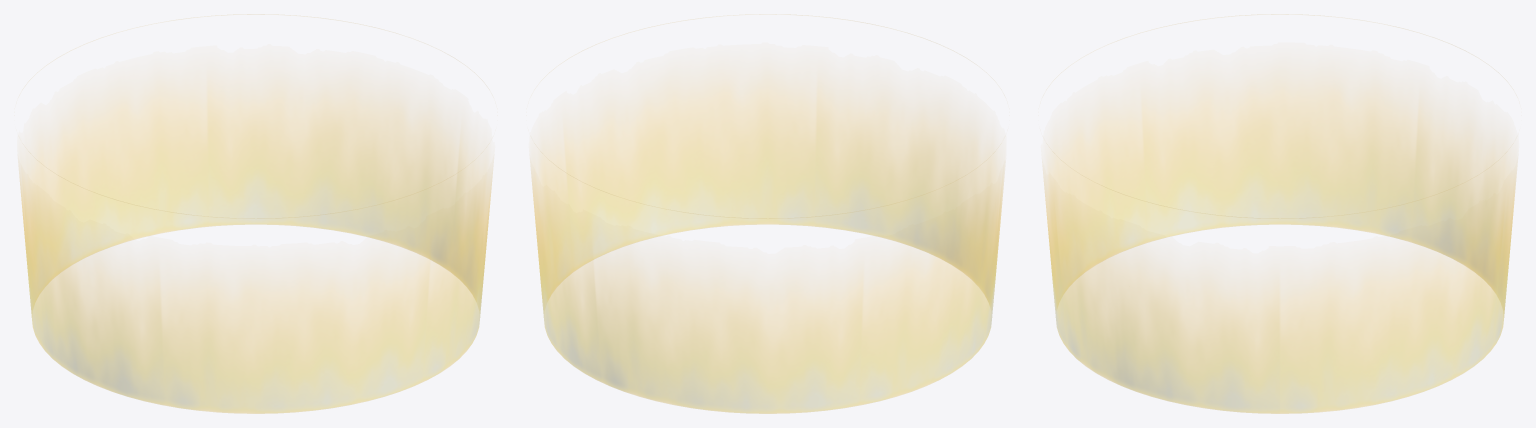
File: shock_wall_gold.glb
3 renders of one model, left to right at view 1: azimuth 30°, elevation 25°; view 2: azimuth 150°, elevation 25°; view 3: azimuth 270°, elevation 25°, orthographic.
Visible parts, largest first — view 1: wall; view 2: wall; view 3: wall.
Part boxes in pixels (x1,y1,x2,y2): wall: (19, 14, 492, 413); wall: (531, 15, 1003, 413); wall: (1044, 14, 1516, 413).
Bounding box in the file's own units: 2.16 × 1 × 2.16.
Materials: 1 (1 with a texture image).
